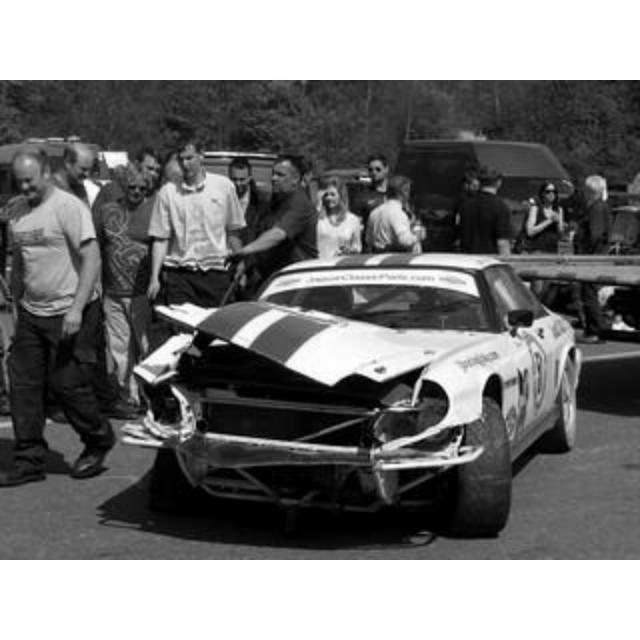Headlight-damage: (340, 376, 466, 452), (122, 360, 220, 456)
bonnet-dent: (148, 290, 452, 392)
front-bumper-dent: (180, 362, 386, 522)
